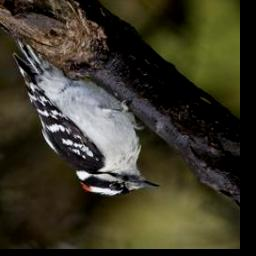Woodpecker: (14, 36, 162, 196)
